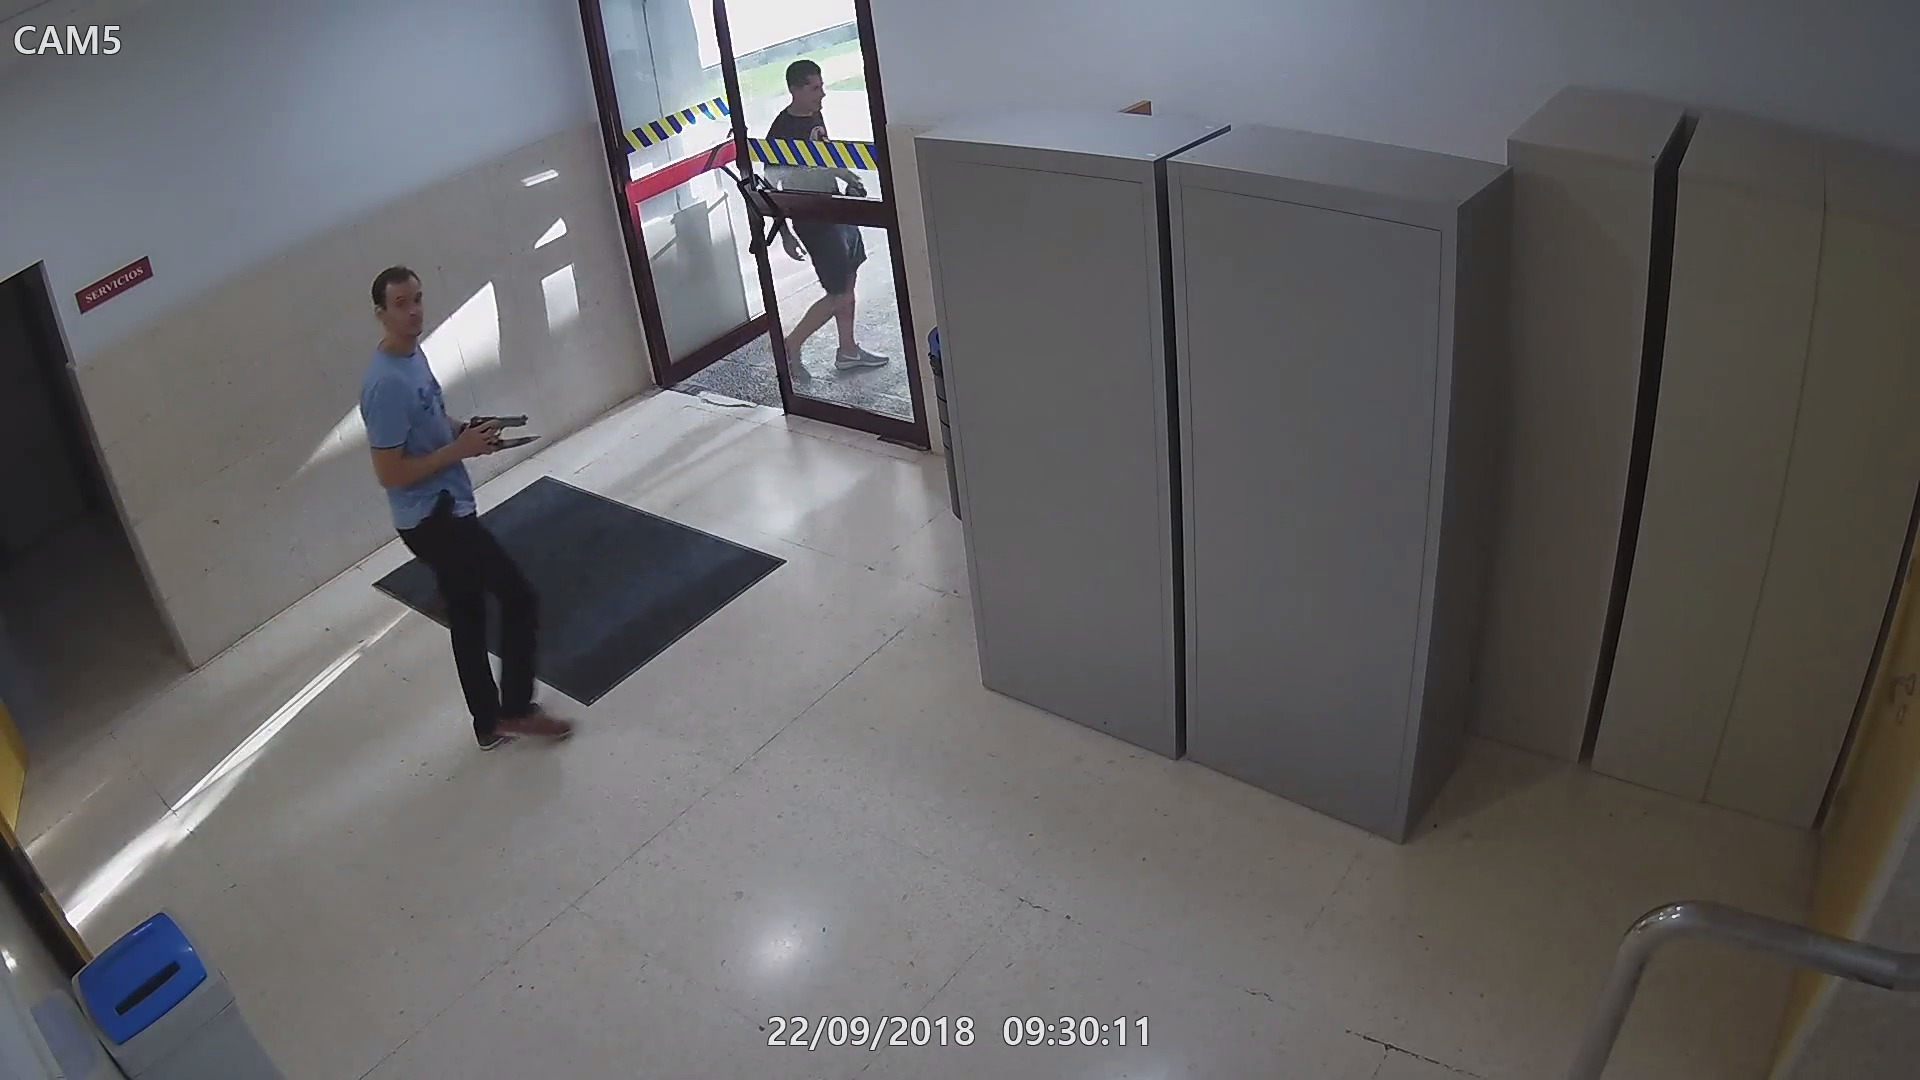Handgun: (454, 409, 527, 463), (839, 182, 870, 194)
Knife: (477, 433, 539, 458)
